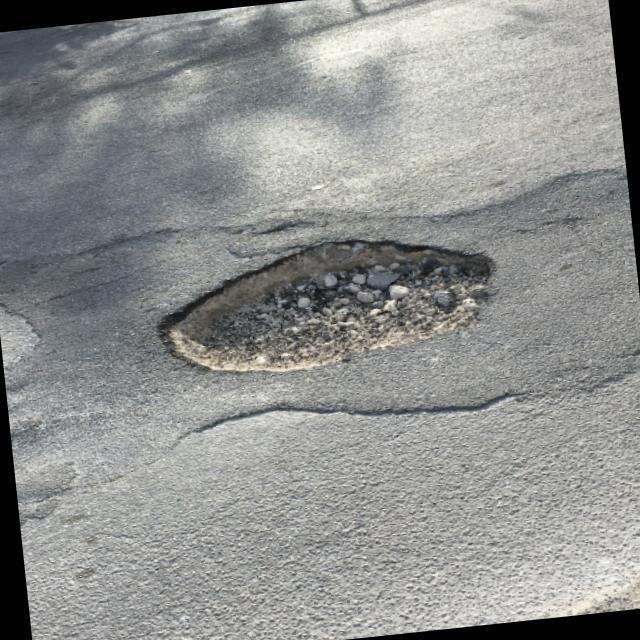Pothole: (111, 208, 506, 414)
